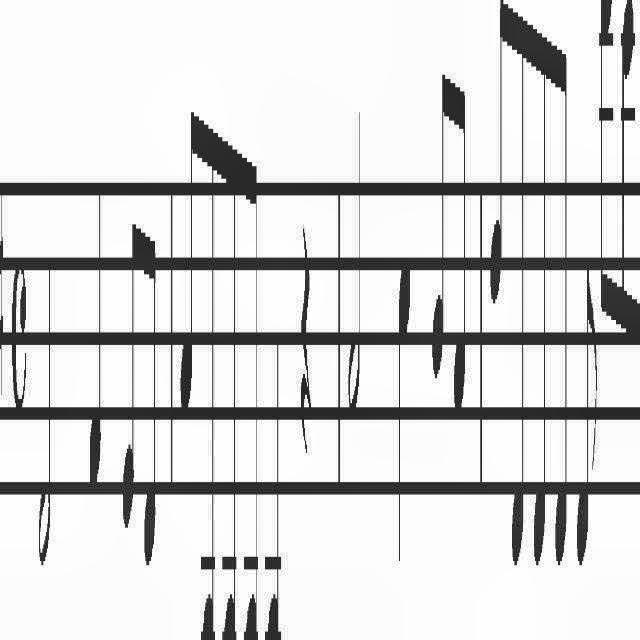Diez: (0, 166, 4, 398)
Eighth-note: (508, 0, 526, 608), (551, 1, 569, 603), (244, 140, 264, 640), (532, 1, 548, 612), (220, 120, 238, 640), (199, 99, 216, 640), (577, 229, 599, 603), (448, 49, 468, 448), (428, 36, 446, 418), (180, 68, 196, 446), (620, 0, 636, 362), (598, 0, 614, 340), (488, 0, 504, 328), (144, 212, 158, 580), (122, 175, 134, 590)
Half-note: (346, 94, 366, 472), (34, 259, 54, 585)
Quarter-note: (263, 311, 288, 640), (393, 235, 411, 610), (88, 198, 104, 510)
Quarter-rest: (295, 215, 313, 507)
